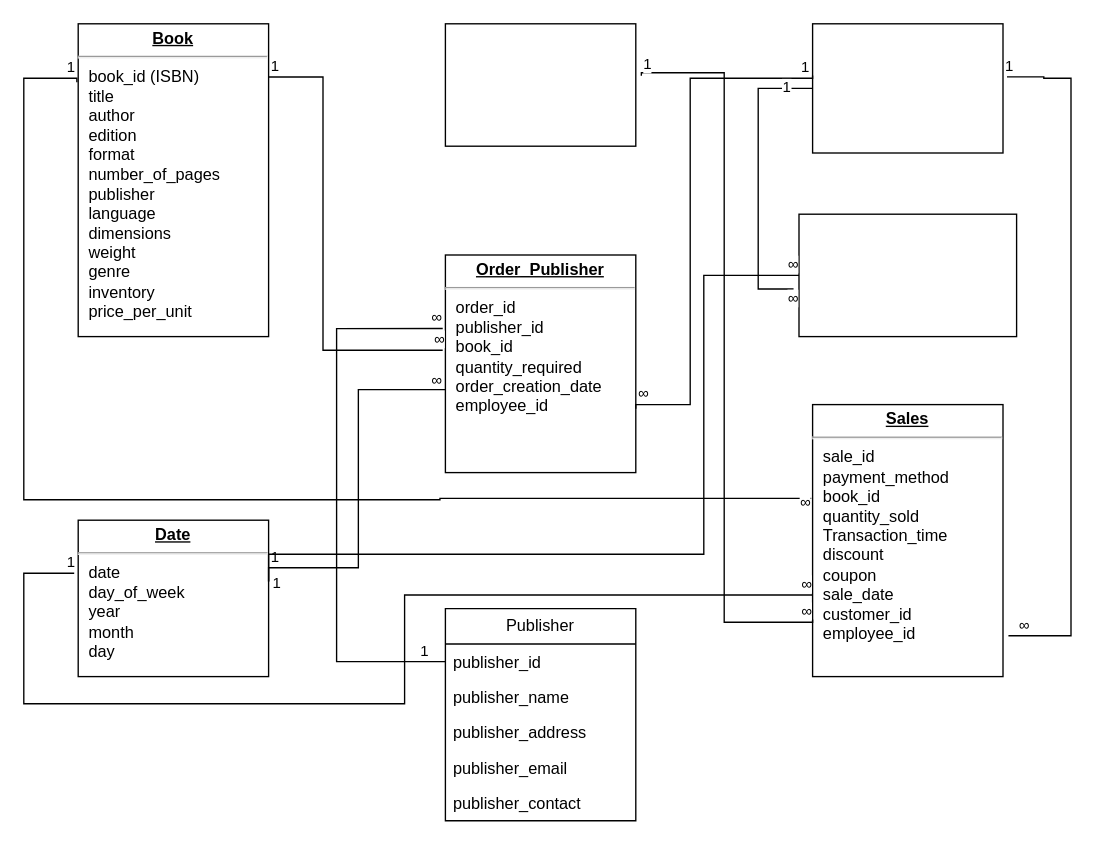
Image size: 1096x849. Some labels were removed from this diagram. Here are the shapes that lost their labels. From the top down, the box of each, then its label:
(444, 22, 636, 146): Customer customer_id customer_first_name customer_last_name email
(811, 22, 1003, 153): Employee employee_id employee_first_name employee_last_name position_title
(798, 213, 1017, 337): Employee_Shift date employee_id shift
